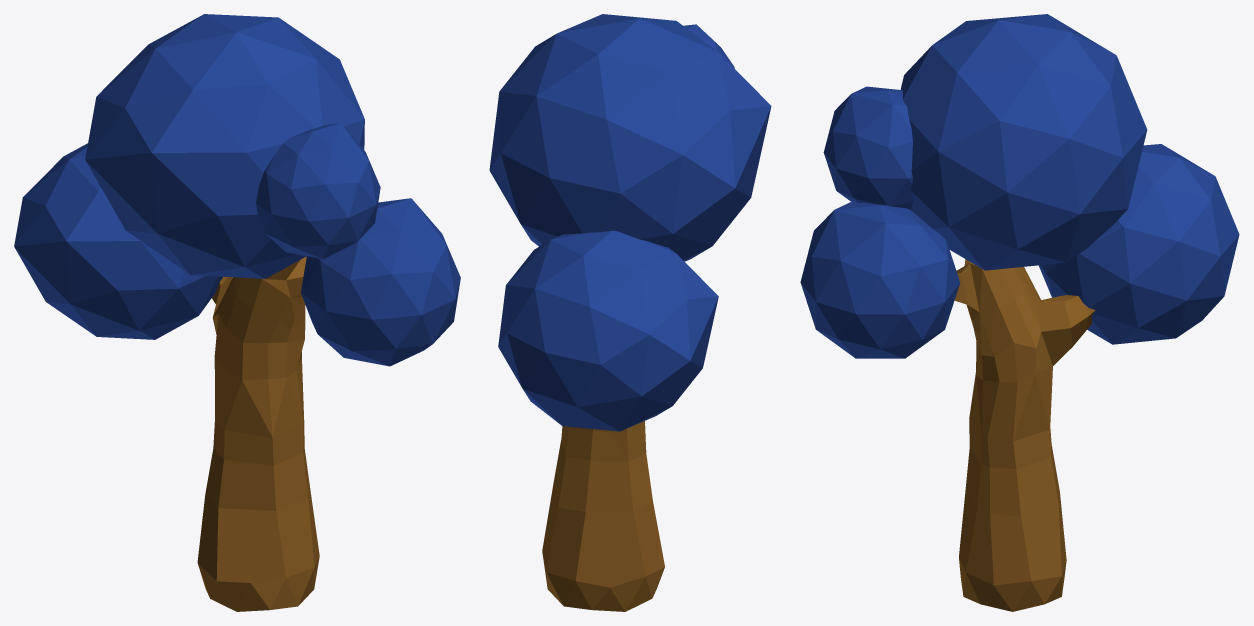
3 renders of one model, left to right at view 1: azimuth 30°, elevation 25°; view 2: azimuth 150°, elevation 25°; view 3: azimuth 270°, elevation 25°, orthographic. The views are drawn at different scales.
Visible parts, largest first — view 1: batang-pohon.002_0; view 2: batang-pohon.002_0; view 3: batang-pohon.002_0.
Part boxes in pixels (x1=…): batang-pohon.002_0: x1=14, y1=14, x2=460, y2=611; batang-pohon.002_0: x1=489, y1=14, x2=771, y2=611; batang-pohon.002_0: x1=800, y1=14, x2=1239, y2=611.
Size of the model in its own units: 14.69 by 27.91 by 19.97.
